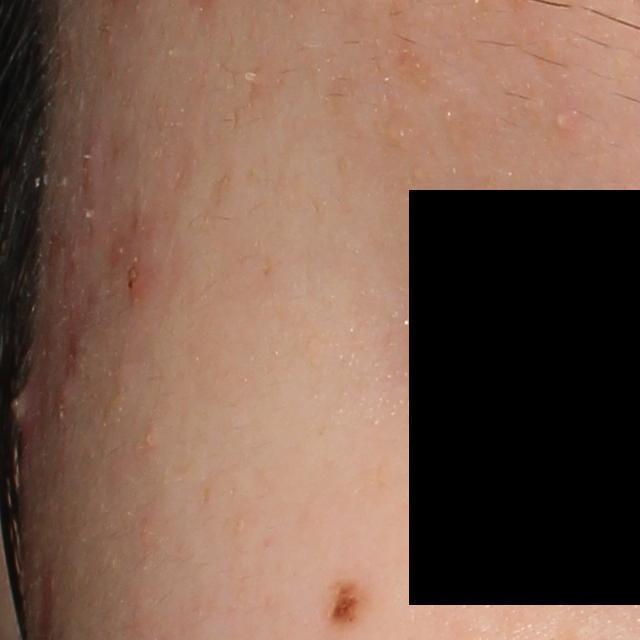nevus: (323, 574, 373, 631)
